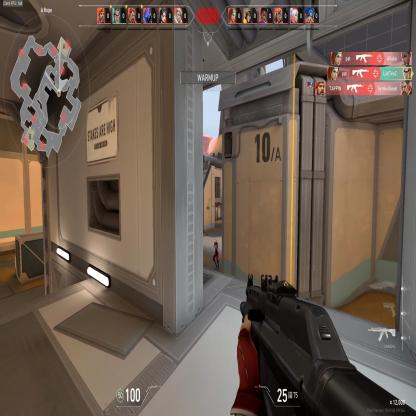enemy: (211, 237, 220, 268)
